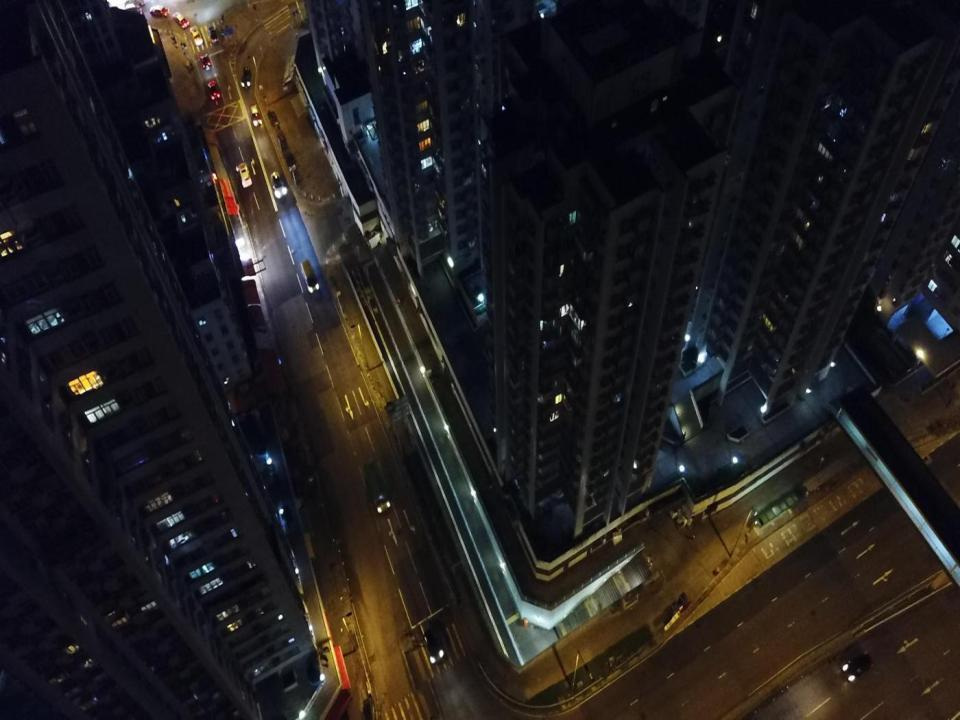bus: (363, 460, 391, 514)
car: (842, 650, 875, 682), (423, 627, 444, 664), (270, 171, 286, 198), (238, 162, 252, 188), (172, 10, 190, 29), (207, 80, 222, 102), (189, 24, 203, 46), (249, 103, 261, 127), (240, 66, 252, 90), (149, 5, 169, 17), (199, 53, 212, 71), (208, 26, 219, 44)
van: (300, 260, 319, 292)
